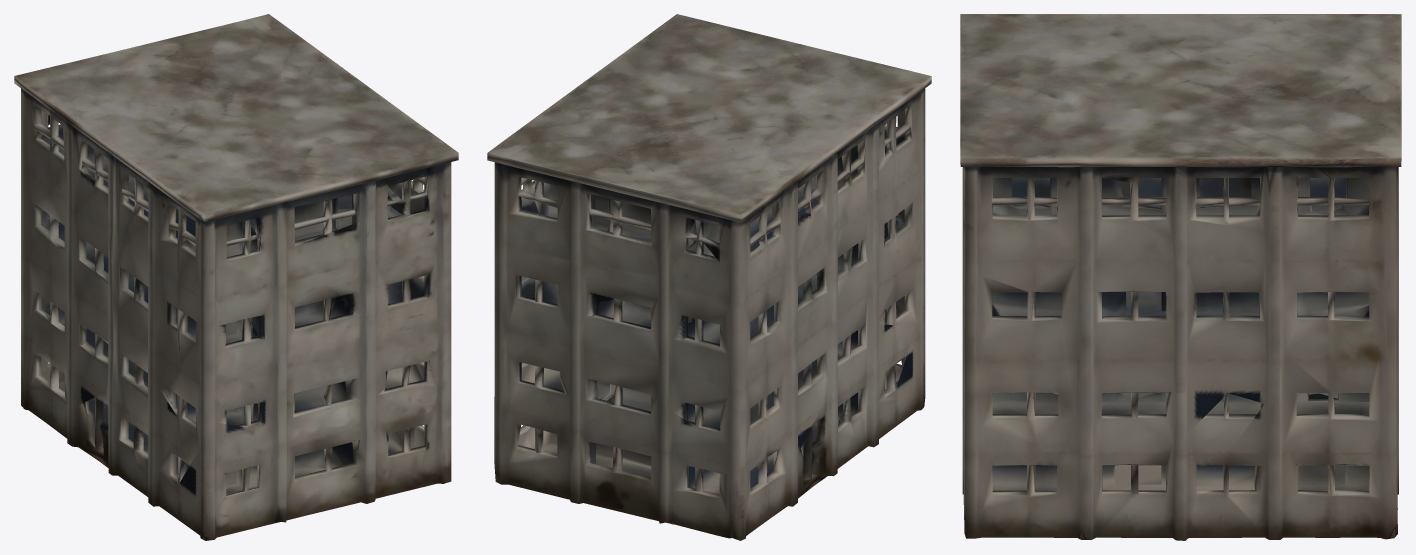
File: tripo_convert_4810b703-934a-4165-9bd2-292f27c7388d.fbx
The picture shows the model from 3 angles, left to right: view 1: azimuth 30°, elevation 25°; view 2: azimuth 150°, elevation 25°; view 3: azimuth 270°, elevation 25°; orthographic projection. The views are drawn at different scales.
Parts seen in each view (by area): view 1: tripo_node_4810b703; view 2: tripo_node_4810b703; view 3: tripo_node_4810b703.
Boxes of the visible parts, left/top/right/bottom form: tripo_node_4810b703: left=14, top=14, right=458, bottom=540; tripo_node_4810b703: left=487, top=14, right=931, bottom=540; tripo_node_4810b703: left=960, top=14, right=1401, bottom=540.
Size of the model in its own units: 0.7744 by 0.9624 by 0.9998.
1 material, 1 textured.
